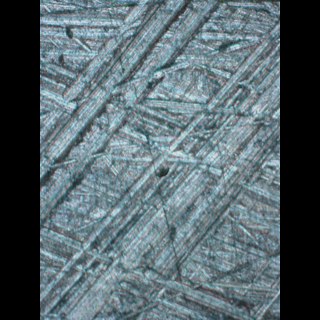d: (42, 0, 279, 313)
